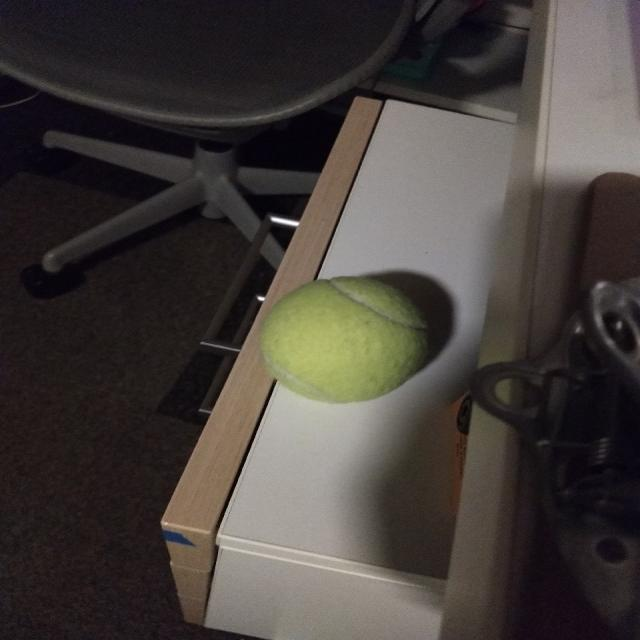Tennis-Ball: (260, 276, 431, 403)
